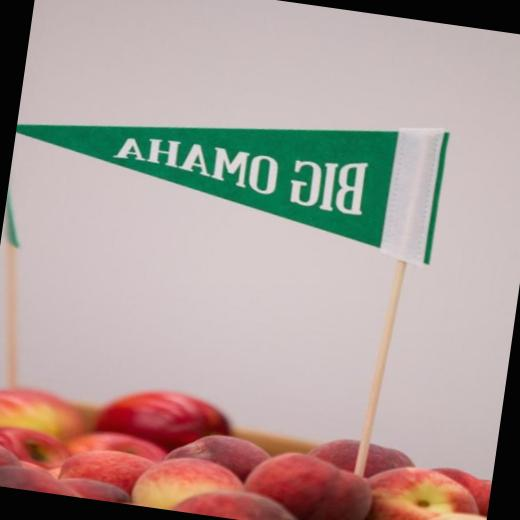Apple: (0, 365, 497, 520), (361, 461, 474, 520)
